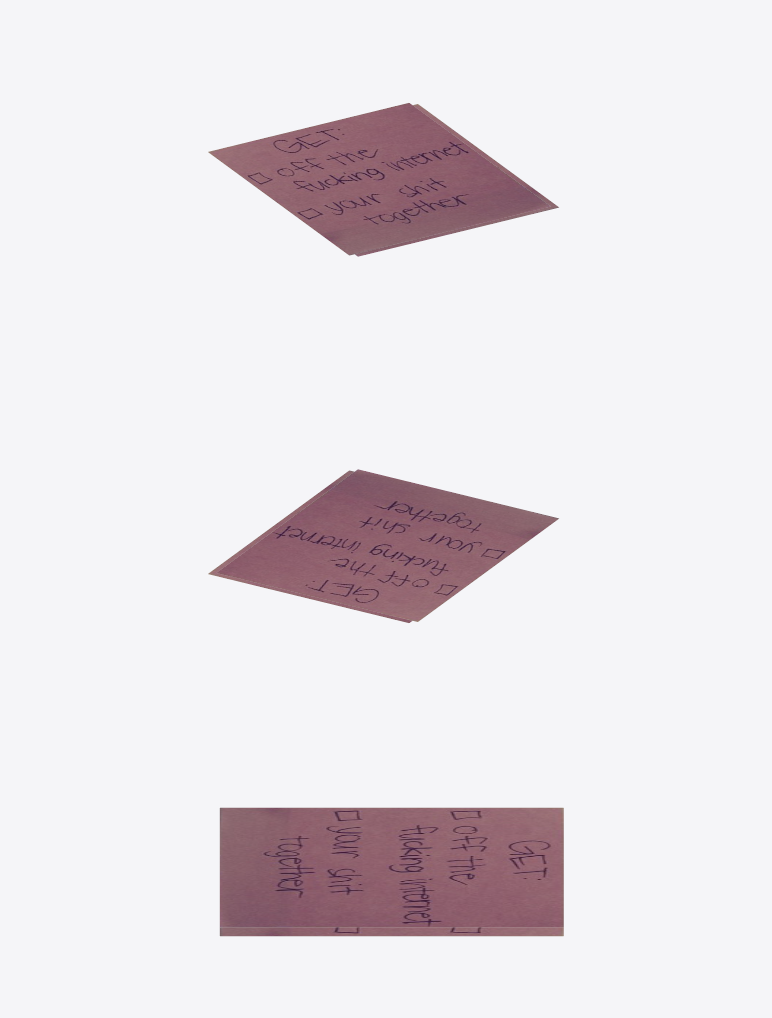
File: off_decal12.fbx
3 views of the same model, one above another, from view 1: azimuth 30°, elevation 25°; view 2: azimuth 150°, elevation 25°; view 3: azimuth 270°, elevation 25° (orthographic). The views are drawn at different scales.
Visible parts, largest first — view 1: Plane01, Duplicate00; view 2: Plane01, Duplicate00; view 3: Plane01, Duplicate00.
Boxes of the visible parts, x1,y1,x2,y2 form: Plane01: [208, 103, 550, 255]; Duplicate00: [355, 104, 558, 256]; Plane01: [216, 469, 558, 621]; Duplicate00: [208, 470, 412, 622]; Plane01: [219, 807, 563, 927]; Duplicate00: [219, 927, 563, 936].
Size of the model in its own units: 12.83 by 0.0909 by 15.54.
